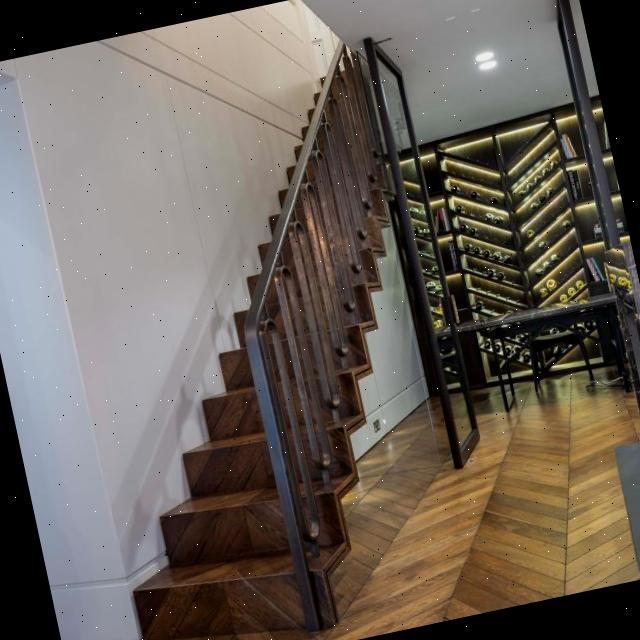stairs: (27, 39, 476, 640)
